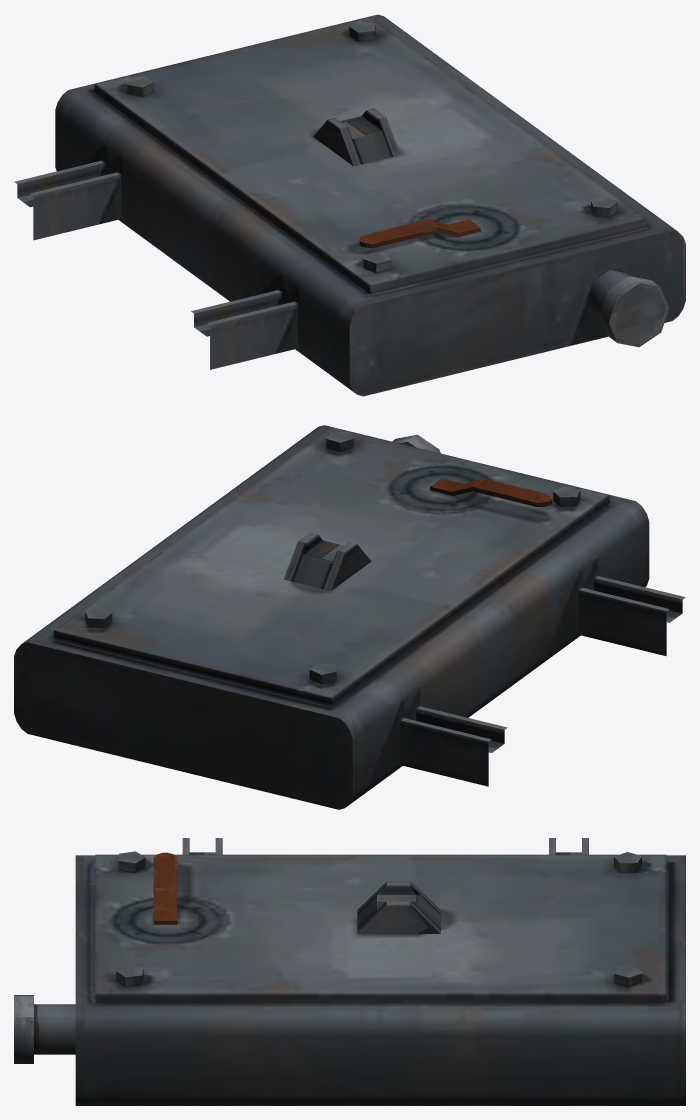
The picture shows the model from 3 angles, top to bottom: view 1: azimuth 30°, elevation 25°; view 2: azimuth 150°, elevation 25°; view 3: azimuth 270°, elevation 25°; orthographic projection. The views are drawn at different scales.
Parts seen in each view (by area): view 1: body0_model0_lod0_mesh0; view 2: body0_model0_lod0_mesh0; view 3: body0_model0_lod0_mesh0.
Boxes of the visible parts, left/top/right/bottom form: body0_model0_lod0_mesh0: left=14, top=14, right=685, bottom=396; body0_model0_lod0_mesh0: left=14, top=425, right=685, bottom=809; body0_model0_lod0_mesh0: left=14, top=838, right=685, bottom=1105.
Bounding box in the file's own units: 33.09 × 9.48 × 43.81.
Materials: 1 (1 with a texture image).
